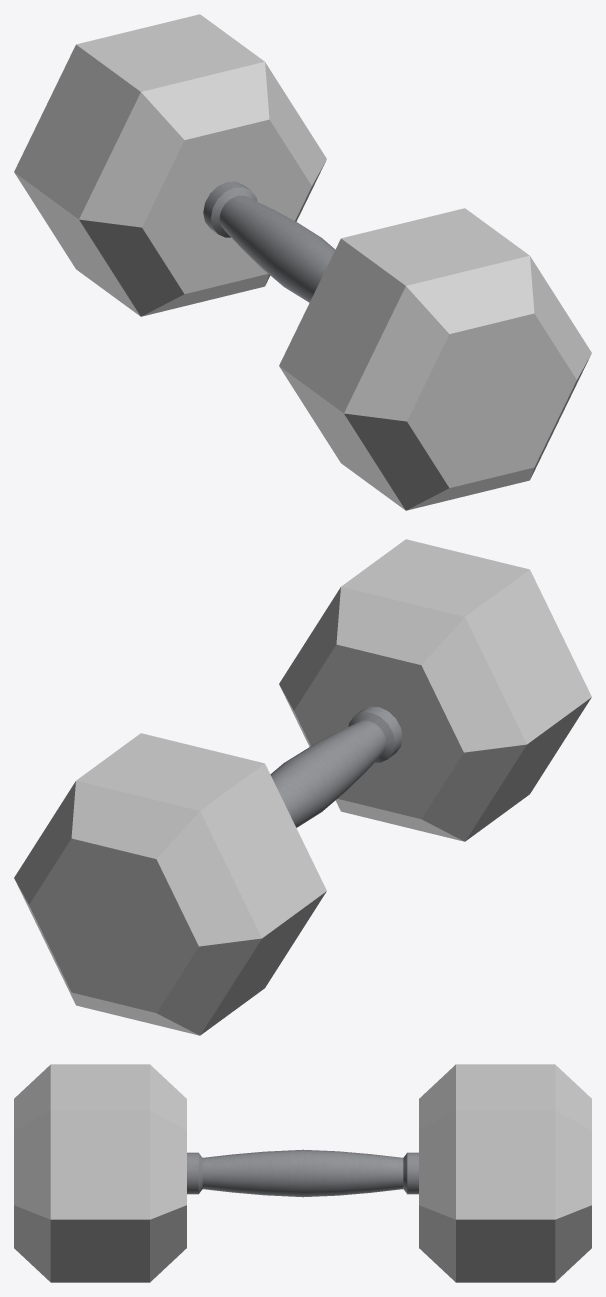
Rendered from Dumbbelle 7kg.fbx.
3 views of the same model, one above another, from view 1: azimuth 30°, elevation 25°; view 2: azimuth 150°, elevation 25°; view 3: azimuth 270°, elevation 25° (orthographic). The views are drawn at different scales.
Visible parts, largest first — view 1: Dumbbelle 7kg; view 2: Dumbbelle 7kg; view 3: Dumbbelle 7kg.
Boxes of the visible parts, x1,y1,x2,y2 form: Dumbbelle 7kg: [14, 14, 591, 510]; Dumbbelle 7kg: [14, 539, 591, 1035]; Dumbbelle 7kg: [14, 1064, 591, 1282].
Bounding box in the file's own units: 11.27 × 9.76 × 29.73.
